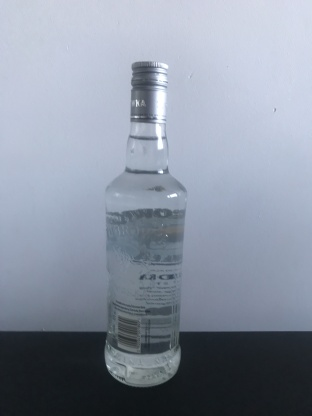nakretka: (129, 59, 169, 126)
